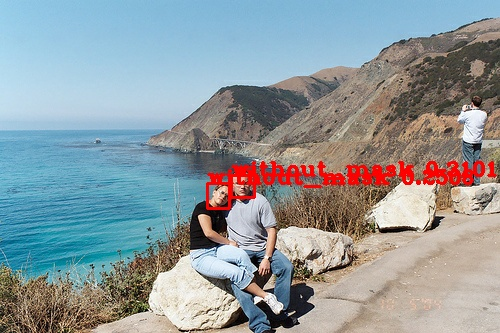without_mask: (228, 170, 255, 199), (211, 182, 234, 210)
